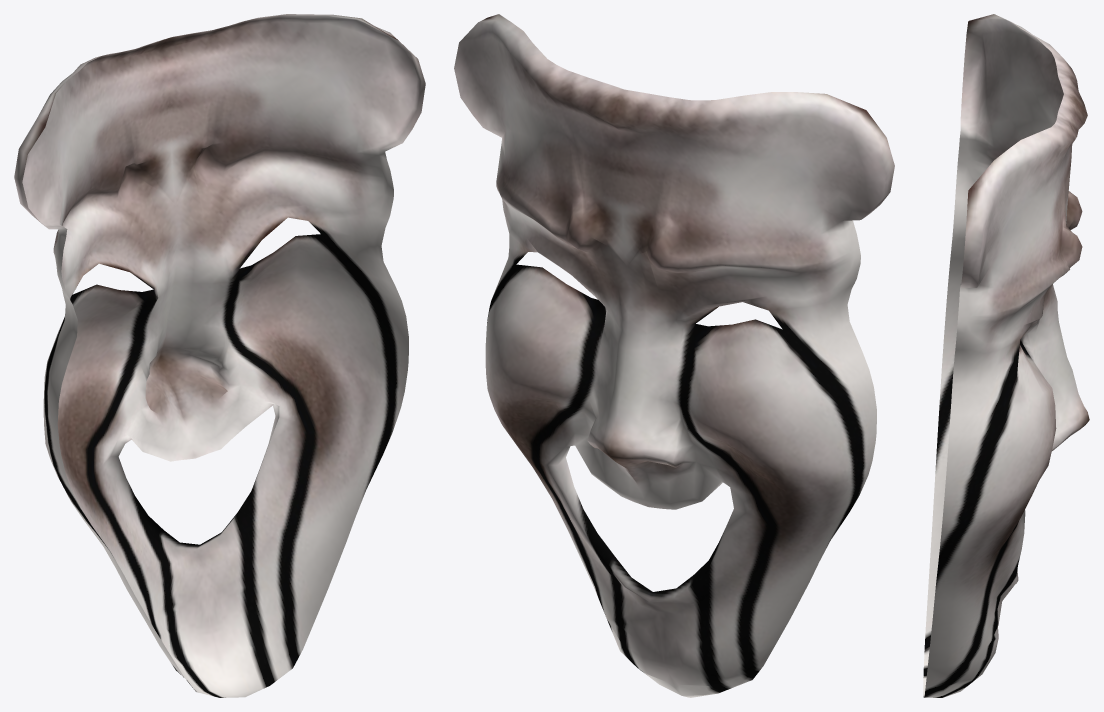
File: mask.fbx
The picture shows the model from 3 angles, left to right: view 1: azimuth 30°, elevation 25°; view 2: azimuth 150°, elevation 25°; view 3: azimuth 270°, elevation 25°; orthographic projection. The views are drawn at different scales.
Parts seen in each view (by area): view 1: 035; view 2: 035; view 3: 035.
Part boxes in pixels (bbox=[...]): 035: bbox=[14, 14, 425, 697]; 035: bbox=[454, 14, 894, 697]; 035: bbox=[923, 14, 1089, 697].
Bounding box in the file's own units: 649 × 957 × 236.
1 material, 1 textured.
